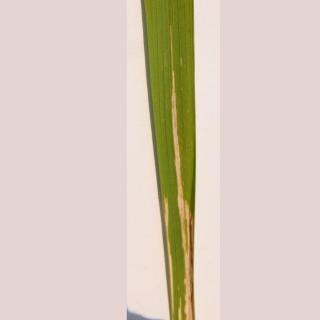Hawar-Daun: (171, 60, 205, 320), (154, 170, 182, 306)
